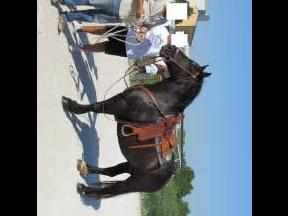horse: (61, 43, 212, 199)
